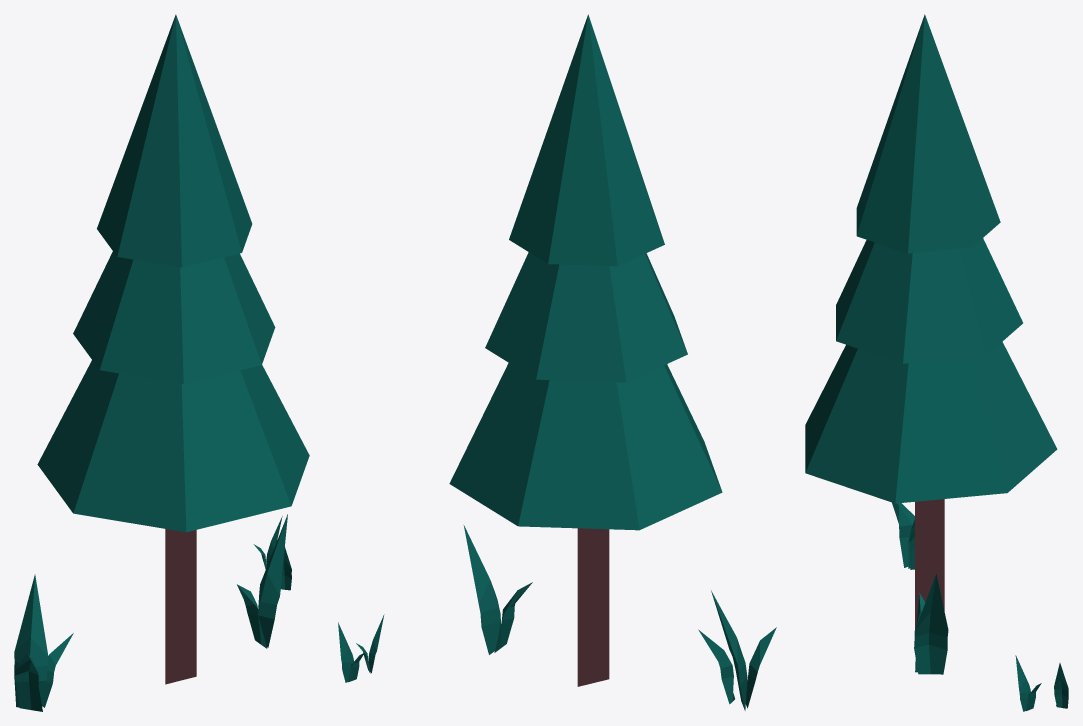
Rendered from fir_tree.fbx.
The picture shows the model from 3 angles, left to right: view 1: azimuth 30°, elevation 25°; view 2: azimuth 150°, elevation 25°; view 3: azimuth 270°, elevation 25°; orthographic projection. The views are drawn at different scales.
Visible parts, largest first — view 1: tree.001, plant.001, plant.002, plant; view 2: tree.001, plant.001, plant.002, plant; view 3: tree.001, plant.002, plant, plant.001.
Boxes of the visible parts, x1,y1,x2,y2 form: tree.001: [37, 14, 309, 684]; plant.001: [14, 574, 73, 711]; plant.002: [237, 514, 287, 648]; plant: [253, 516, 291, 590]; tree.001: [449, 14, 722, 686]; plant.001: [698, 590, 776, 710]; plant.002: [463, 525, 532, 654]; plant: [338, 614, 384, 682]; tree.001: [805, 14, 1057, 629]; plant.002: [914, 574, 948, 674]; plant: [1015, 655, 1068, 711]; plant.001: [892, 502, 914, 569].
Size of the model in its own units: 134 by 245 by 93.08.
